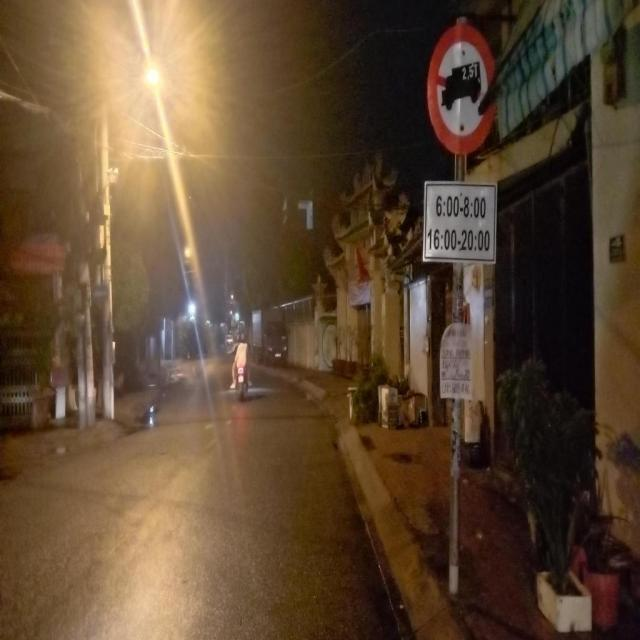106-cam-oto-tai: (428, 25, 500, 152)
